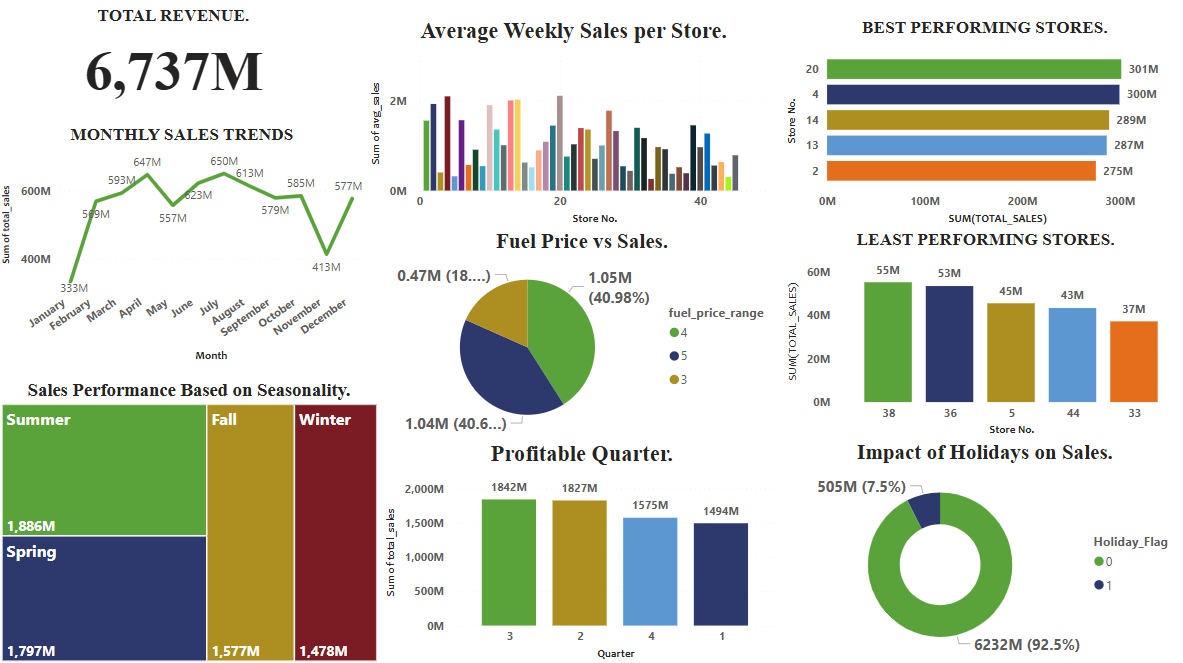

The dashboard page shown, as its layout file describes it:
{"tool":"powerbi","page":{"name":"Page 1","canvas":[1280,720],"ordinal":0},"visuals":[{"type":"lineChart","title":"MONTHLY SALES TRENDS","fields":{"Category":["monthly_sales_trend.month.Variation.Date Hierarchy.Month","monthly_sales_trend.month.Variation.Date Hierarchy.Day"],"Y":["Sum(monthly_sales_trend.total_sales)"]},"box":[0,138.4,397.7,260.9],"z":0},{"type":"clusteredBarChart","title":"BEST PERFORMING STORES.","fields":{"Category":["best_performing_stores.store"],"Y":["Sum(best_performing_stores.total_sales)"]},"box":[843,23.9,437.4,227.5],"z":1000},{"type":"clusteredColumnChart","title":"LEAST PERFORMING STORES.","fields":{"Category":["least_performing_stores.store"],"Y":["Sum(least_performing_stores.total_sales)"]},"box":[844.6,251.3,435.8,227.5],"z":2000},{"type":"donutChart","title":"Impact of Holidays on Sales.","fields":{"Y":["Sum(Holiday_Performance.total_sales)"],"Category":["Holiday_Performance.holiday_flag"]},"box":[843,478.8,437.4,241.8],"z":3000},{"type":"pieChart","title":"Fuel Price vs Sales.","fields":{"Category":["fuel_price_vs_sales.fuel_price_range"],"Y":["Sum(fuel_price_vs_sales.avg_sales)"]},"box":[413.6,491.5,431.1,229],"z":4000},{"type":"card","title":"TOTAL REVENUE.","fields":{"Values":["Sum(total_revenue.total_revenue)"]},"box":[30.2,11.1,318.1,108.2],"z":5000},{"type":"columnChart","title":"Average Weekly Sales per Store.","fields":{"Y":["Sum(Average_Weekly_Sales_per_Store.avg_sales)"],"Category":["Average_Weekly_Sales_per_Store.store"],"Series":["Average_Weekly_Sales_per_Store.store"]},"box":[396.1,23.9,447,227.5],"z":6000},{"type":"treemap","title":" Sales Performance Based on Seasonality.","fields":{"Group":["season_based_sales.Season"],"Values":["Sum(season_based_sales.total_sales)"]},"box":[0,413.6,397.7,307],"z":7000},{"type":"clusteredColumnChart","title":"Profitable Quarter.","fields":{"Category":["profitable_quarter.quarter"],"Y":["Sum(profitable_quarter.total_sales)"]},"box":[413.6,251.3,431.1,240.2],"z":8000}]}

Visuals, with their boxes in screenshot pixels (x1, y1, x2, y2), scaled from the page's 1280x720 canvas onto the 1183x663 screenshot:
"MONTHLY SALES TRENDS" lineChart: <box>0,127,368,368</box>
"BEST PERFORMING STORES." clusteredBarChart: <box>779,22,1182,231</box>
"LEAST PERFORMING STORES." clusteredColumnChart: <box>781,231,1182,441</box>
"Impact of Holidays on Sales." donutChart: <box>779,441,1182,662</box>
"Fuel Price vs Sales." pieChart: <box>382,453,781,662</box>
"TOTAL REVENUE." card: <box>28,10,322,110</box>
"Average Weekly Sales per Store." columnChart: <box>366,22,779,231</box>
" Sales Performance Based on Seasonality." treemap: <box>0,381,368,662</box>
"Profitable Quarter." clusteredColumnChart: <box>382,231,781,453</box>
